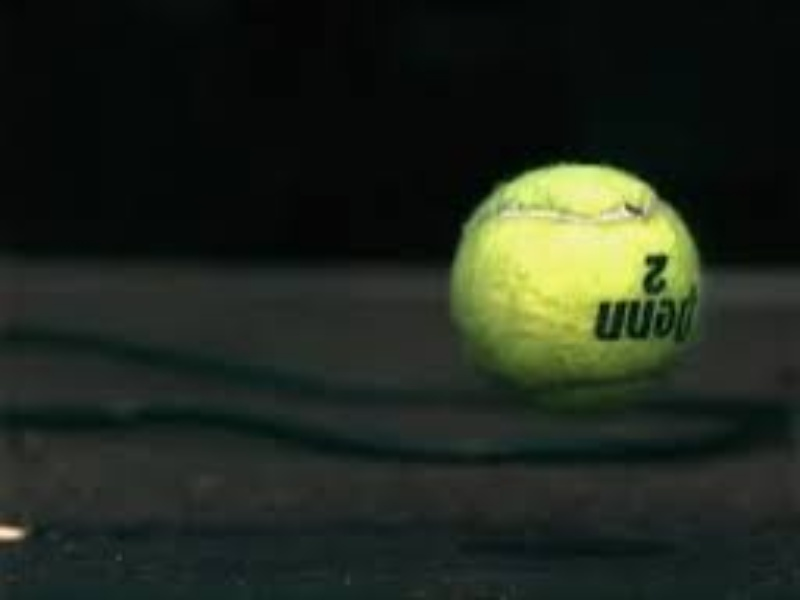tennis ball: (445, 148, 717, 412)
